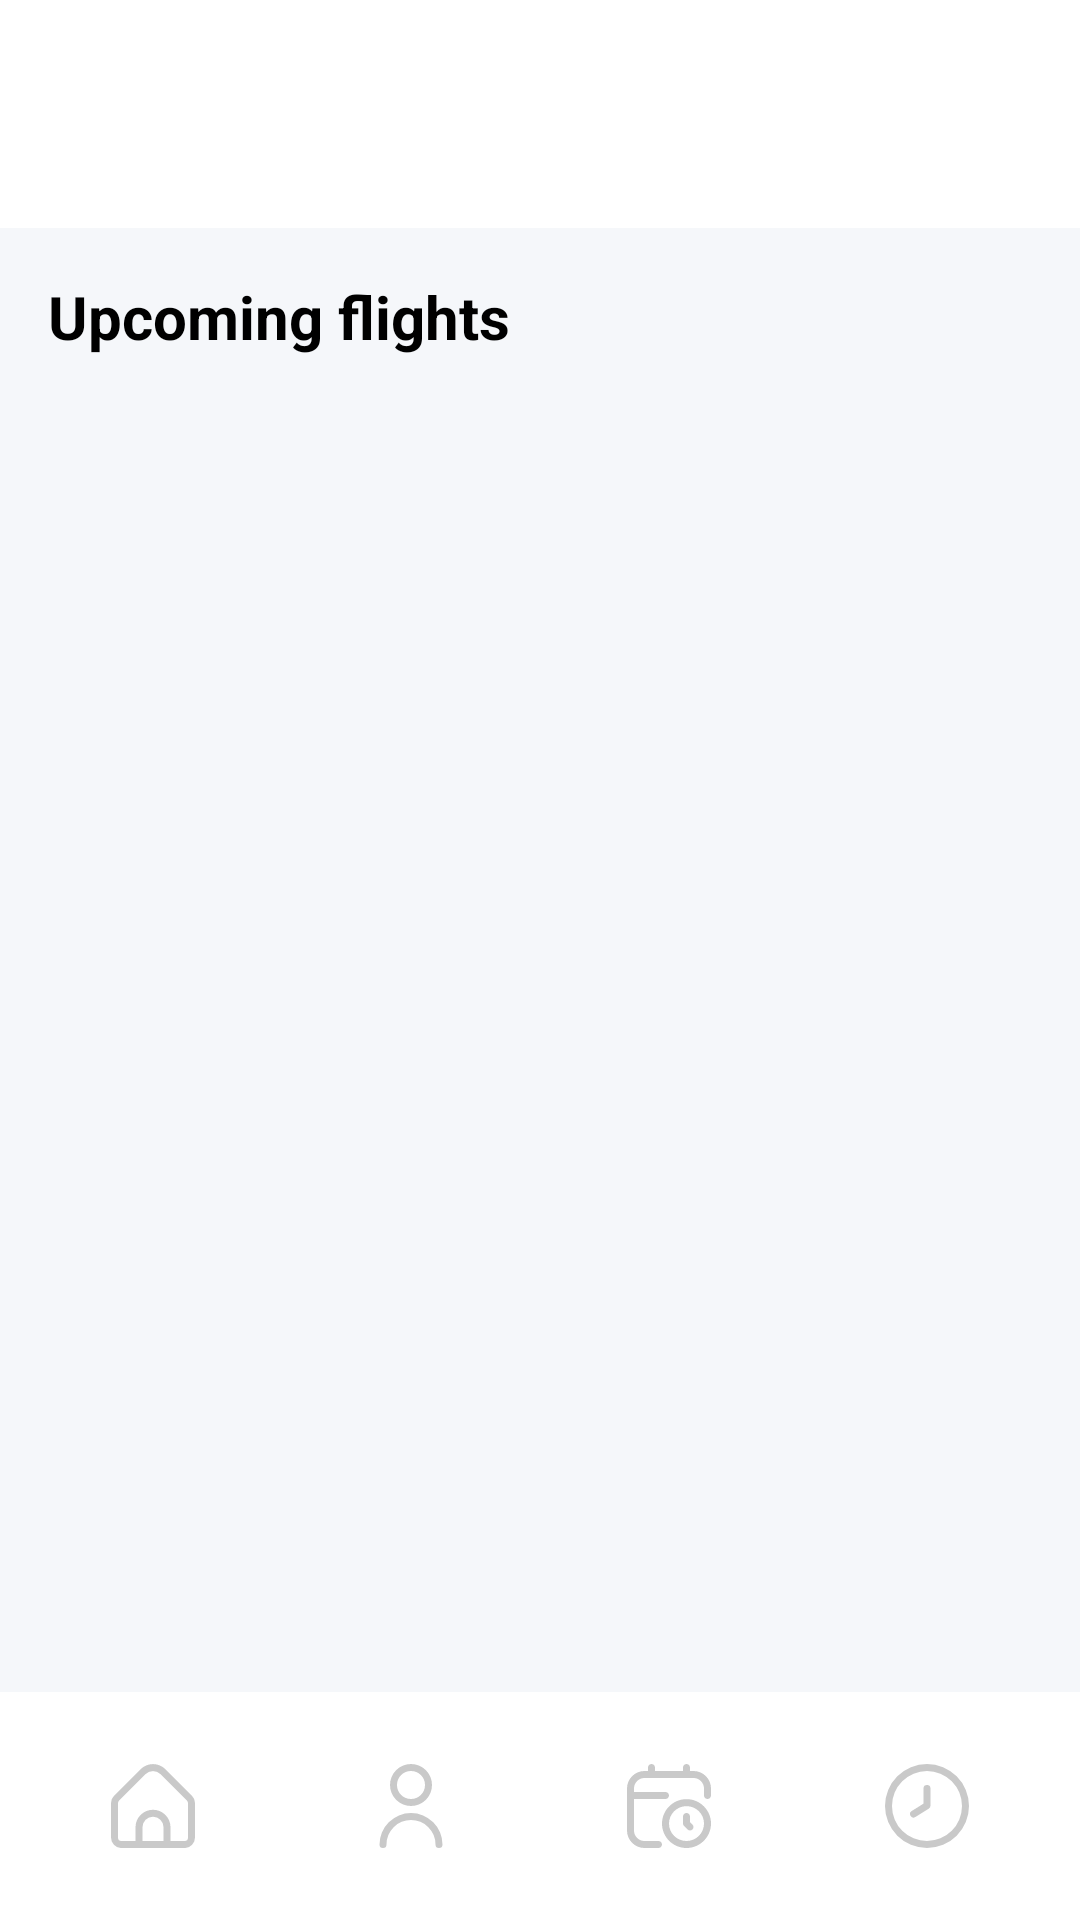

Point at icon controls on the screen. Image size 1080px x 1920px, points as point (x, y).
calendar clock: point (669, 1806)
clock: point (927, 1806)
home: point (153, 1806)
user: point (411, 1806)
